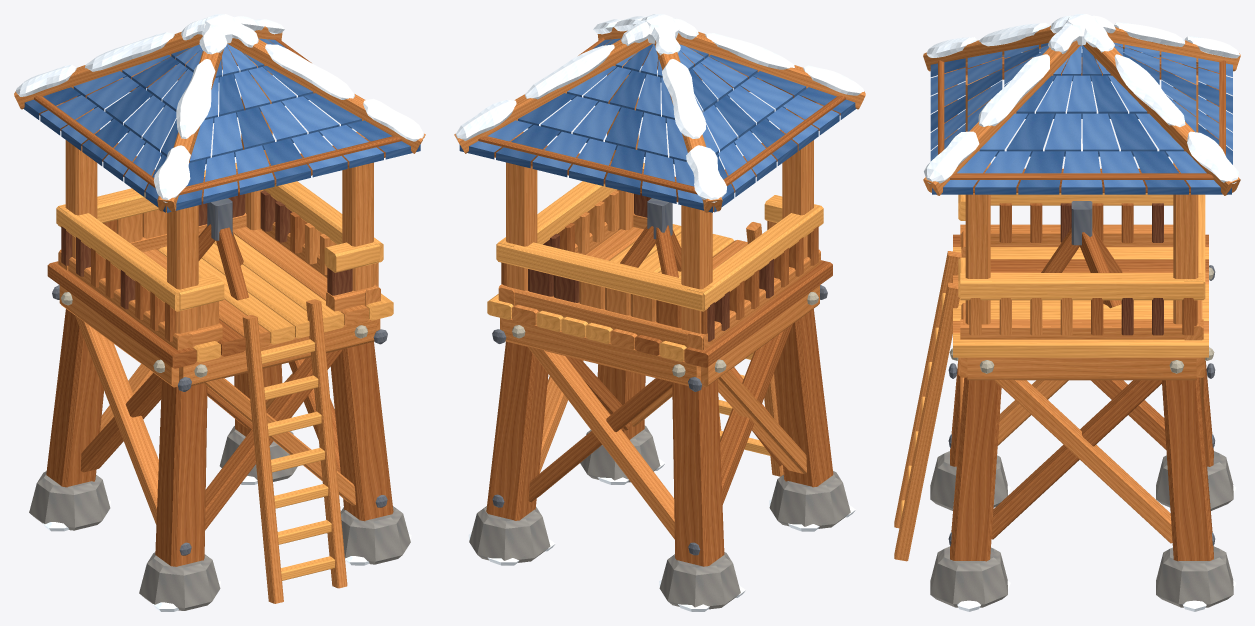
The model's file is eastern_watchtower.glb.
3 views of the same model, side by side, from view 1: azimuth 30°, elevation 25°; view 2: azimuth 150°, elevation 25°; view 3: azimuth 270°, elevation 25° (orthographic). The views are drawn at different scales.
Visible parts, largest first — view 1: Gallery, SlateRoof, Trestle, Footings, Eaves; view 2: Trestle, Gallery, SlateRoof, Footings, Eaves; view 3: SlateRoof, Gallery, Trestle, Footings, Eaves.
Boxes of the visible parts, x1=… form: Gallery: x1=47, y1=61, x2=393, y2=603; SlateRoof: x1=14, y1=14, x2=425, y2=212; Trestle: x1=46, y1=285, x2=393, y2=566; Footings: x1=29, y1=426, x2=411, y2=611; Eaves: x1=34, y1=37, x2=401, y2=202; Trestle: x1=486, y1=285, x2=833, y2=566; Gallery: x1=487, y1=61, x2=832, y2=476; SlateRoof: x1=454, y1=14, x2=865, y2=212; Footings: x1=468, y1=425, x2=855, y2=611; Eaves: x1=478, y1=37, x2=845, y2=202; SlateRoof: x1=923, y1=14, x2=1240, y2=195; Gallery: x1=894, y1=75, x2=1208, y2=561; Trestle: x1=948, y1=265, x2=1215, y2=561; Footings: x1=930, y1=451, x2=1236, y2=611; Eaves: x1=938, y1=57, x2=1225, y2=192.
Bounding box in the file's own units: 1.79 × 3.28 × 1.94.
1 material, 1 textured.
